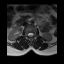CCS_normal: (29, 31, 31, 38)
LFS_normal: (33, 31, 35, 37)
LLS_normal: (31, 31, 33, 37)
RFS_normal: (26, 31, 27, 37)
RLS_normal: (27, 31, 29, 38)
